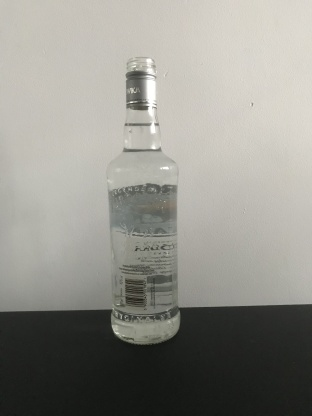nakretka: (124, 54, 158, 110)
